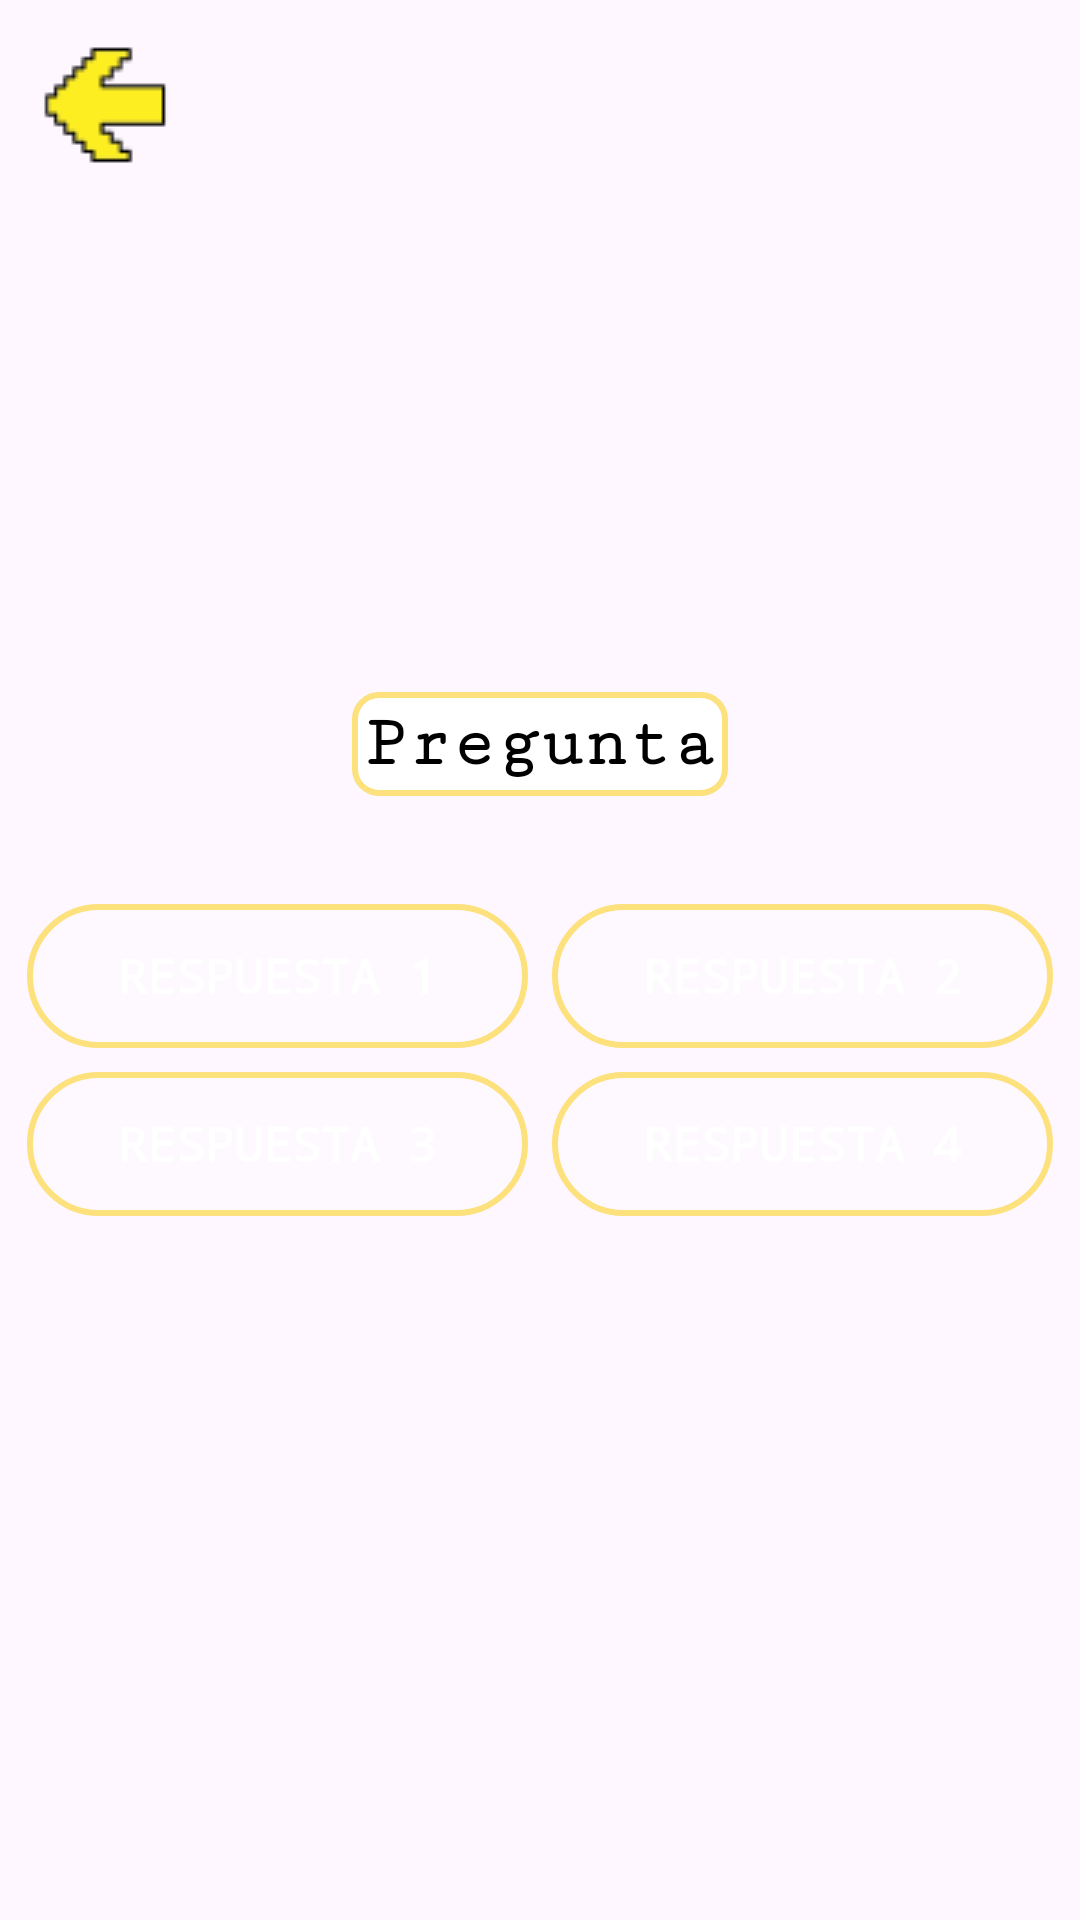

Where to tap for icons on this 1080 x 1920 app screen, as point (x, y):
exit: point (105, 105)
